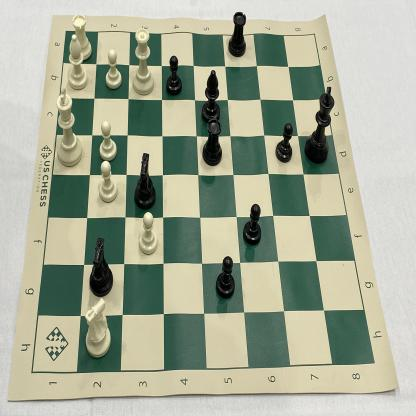black-bishop: (197, 64, 223, 128)
black-king: (303, 83, 339, 167)
black-knight: (131, 146, 161, 212), (85, 234, 115, 298)
black-pawn: (213, 253, 238, 301), (242, 201, 265, 248), (274, 119, 296, 165), (164, 51, 184, 97)
black-rook: (199, 117, 225, 170), (226, 7, 251, 61)
white-bishop: (65, 32, 91, 93)
white-king: (54, 85, 85, 170)
white-knight: (82, 294, 117, 362)
white-pawn: (137, 210, 162, 258), (95, 158, 121, 204), (102, 45, 124, 91), (96, 118, 118, 162)
white-queen: (129, 23, 157, 98)
white-rook: (69, 11, 96, 65)
